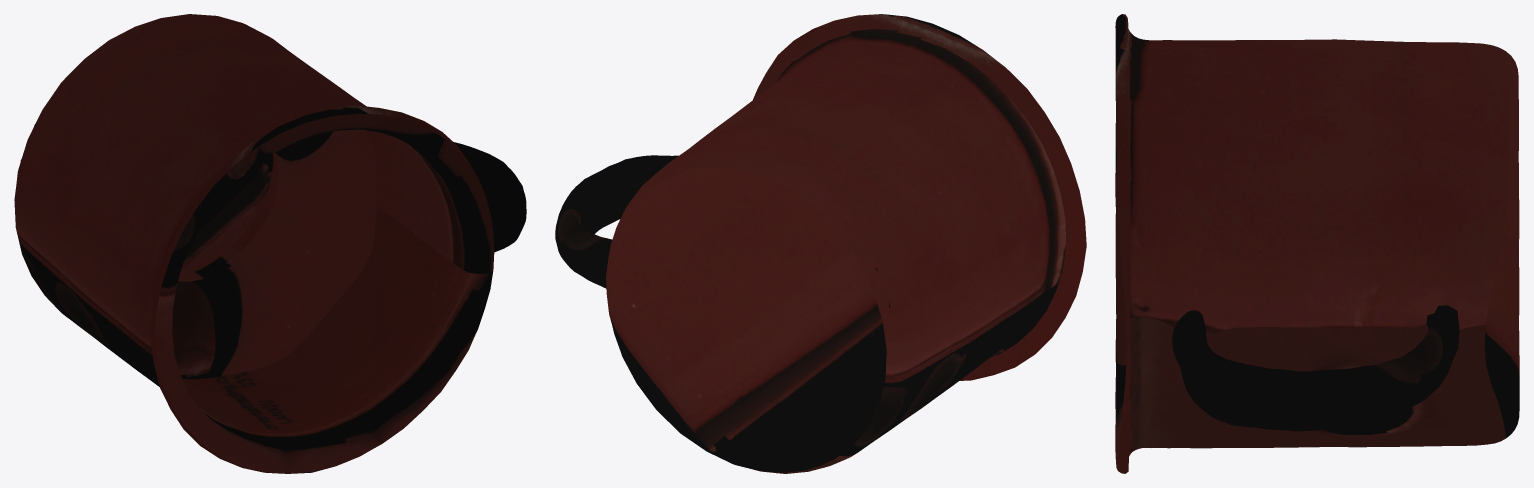
The model's file is mug_visual.obj.
3 renders of one model, left to right at view 1: azimuth 30°, elevation 25°; view 2: azimuth 150°, elevation 25°; view 3: azimuth 270°, elevation 25°, orthographic. The views are drawn at different scales.
Size of the model in its own units: 11.67 by 9.24 by 8.12.
